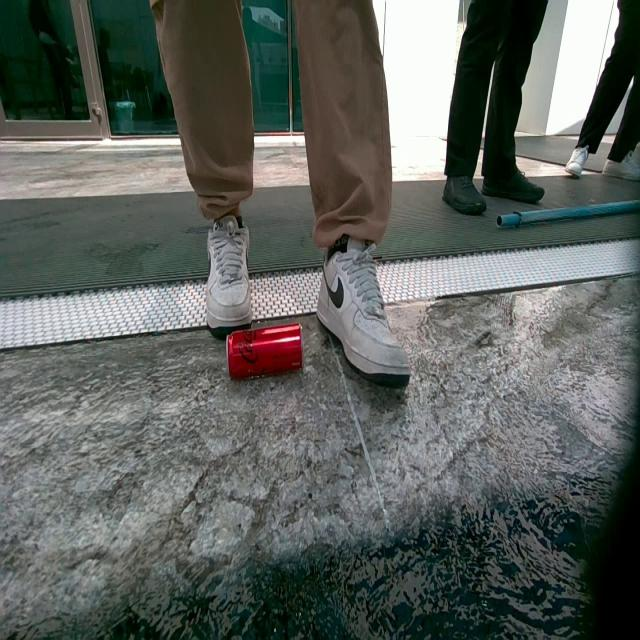Cans: (230, 322, 306, 383)
